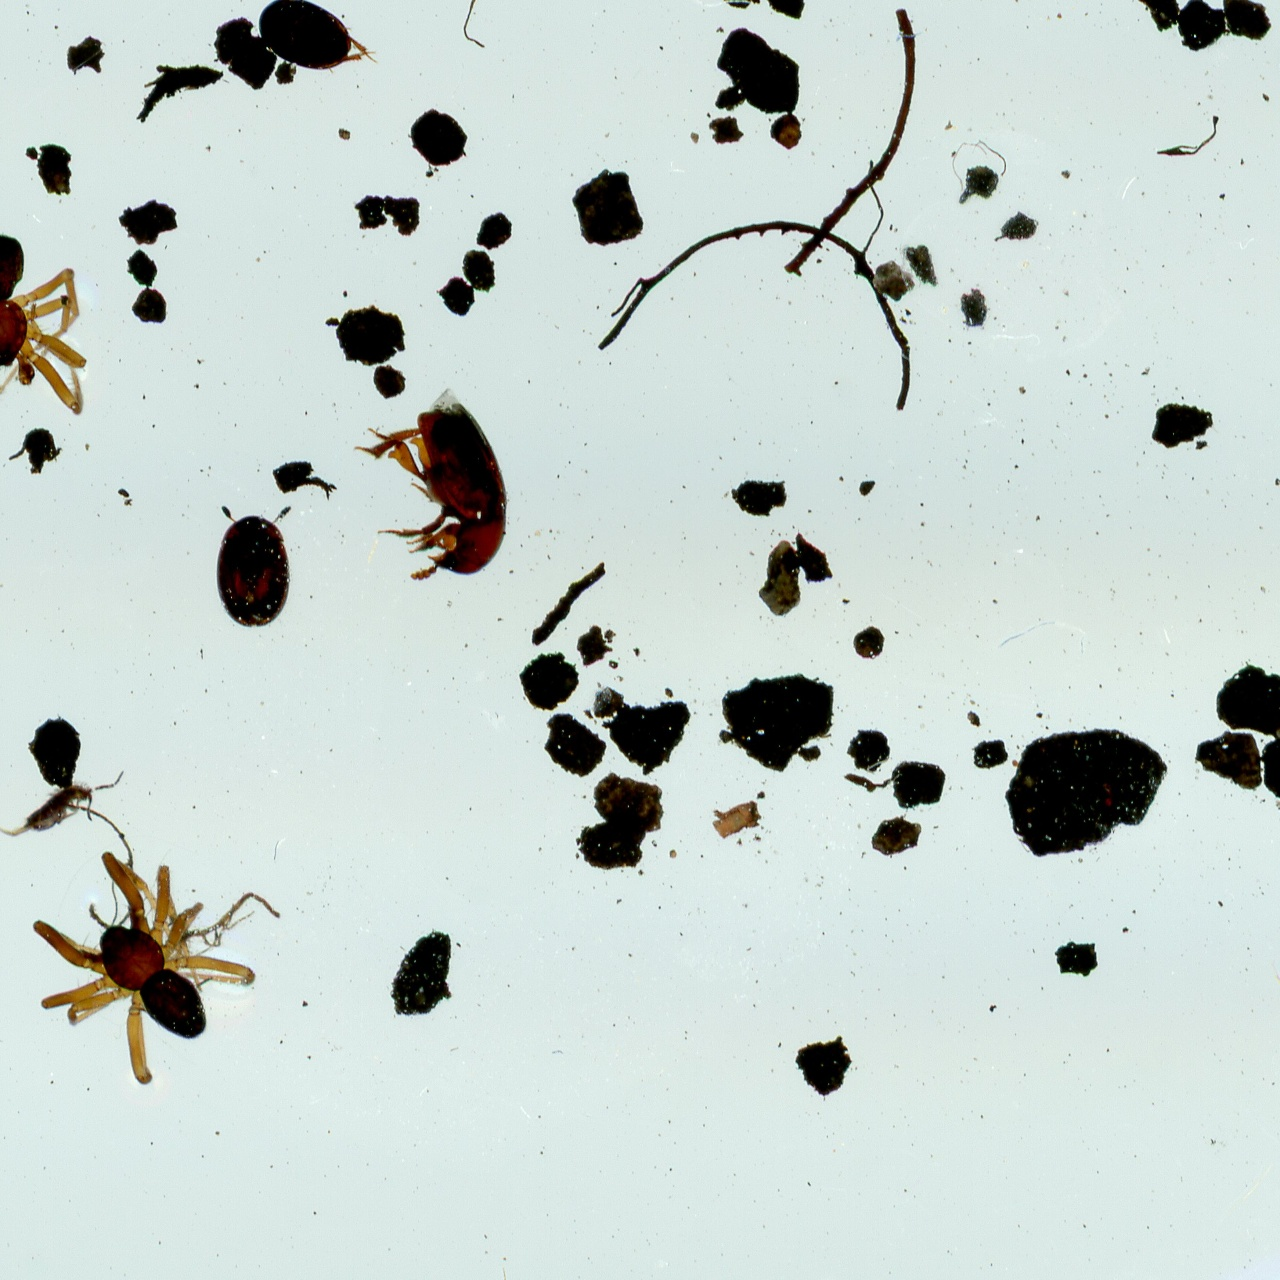arthropod: (28, 850, 259, 1089), (350, 387, 511, 587), (0, 229, 90, 428), (0, 758, 141, 857), (212, 498, 295, 632), (253, 0, 382, 79)
